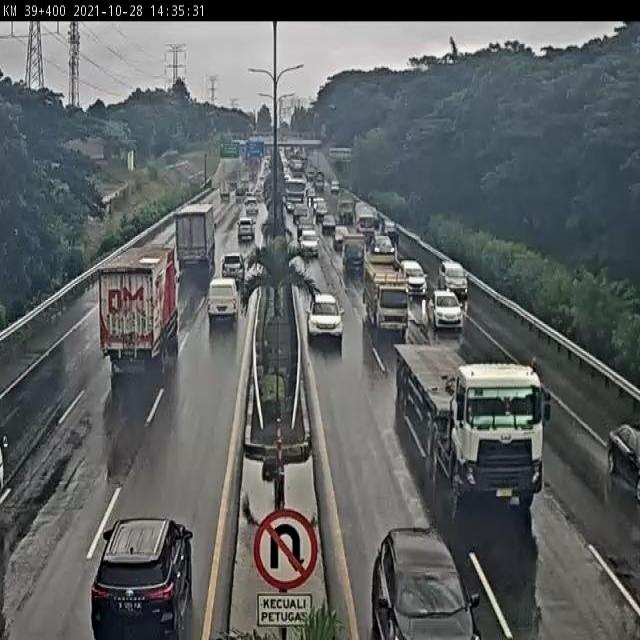Car: (88, 510, 198, 635), (368, 526, 481, 638), (606, 422, 640, 502), (306, 292, 344, 350), (208, 276, 240, 328), (429, 289, 463, 331), (438, 260, 468, 302), (220, 252, 247, 289), (398, 260, 426, 295), (371, 235, 395, 261), (299, 228, 319, 258), (237, 217, 255, 244), (334, 226, 350, 252), (292, 203, 308, 227), (322, 214, 336, 236), (312, 196, 326, 218), (244, 196, 258, 217), (220, 183, 230, 201), (236, 182, 246, 198), (331, 180, 340, 195)
Truck: (391, 340, 557, 528), (96, 243, 175, 376), (363, 247, 409, 336), (174, 206, 213, 265)
